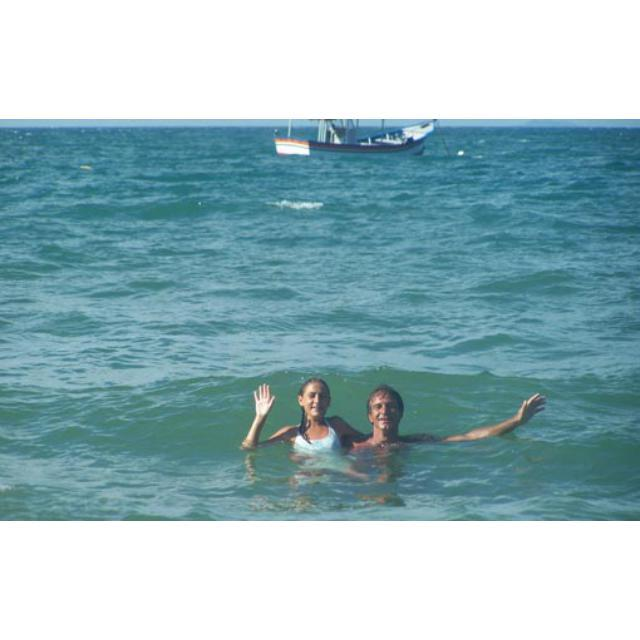human: (353, 384, 547, 453), (241, 375, 353, 457)
